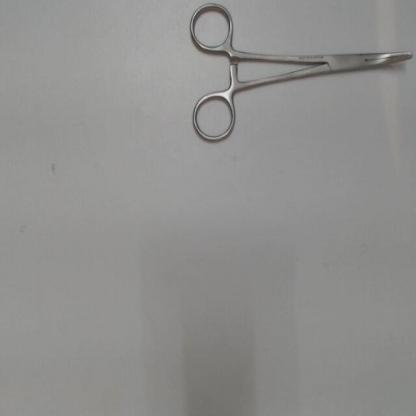Crile Artery Forceps: (189, 1, 414, 144)
